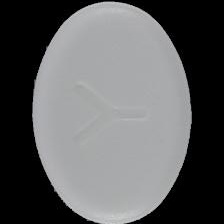65862-607: (0, 0, 224, 224)
